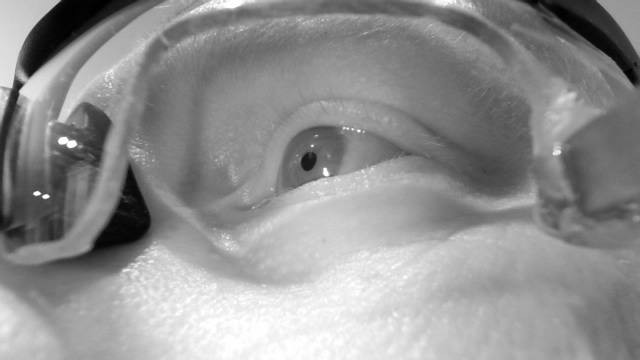pupil: (300, 151, 317, 172)
